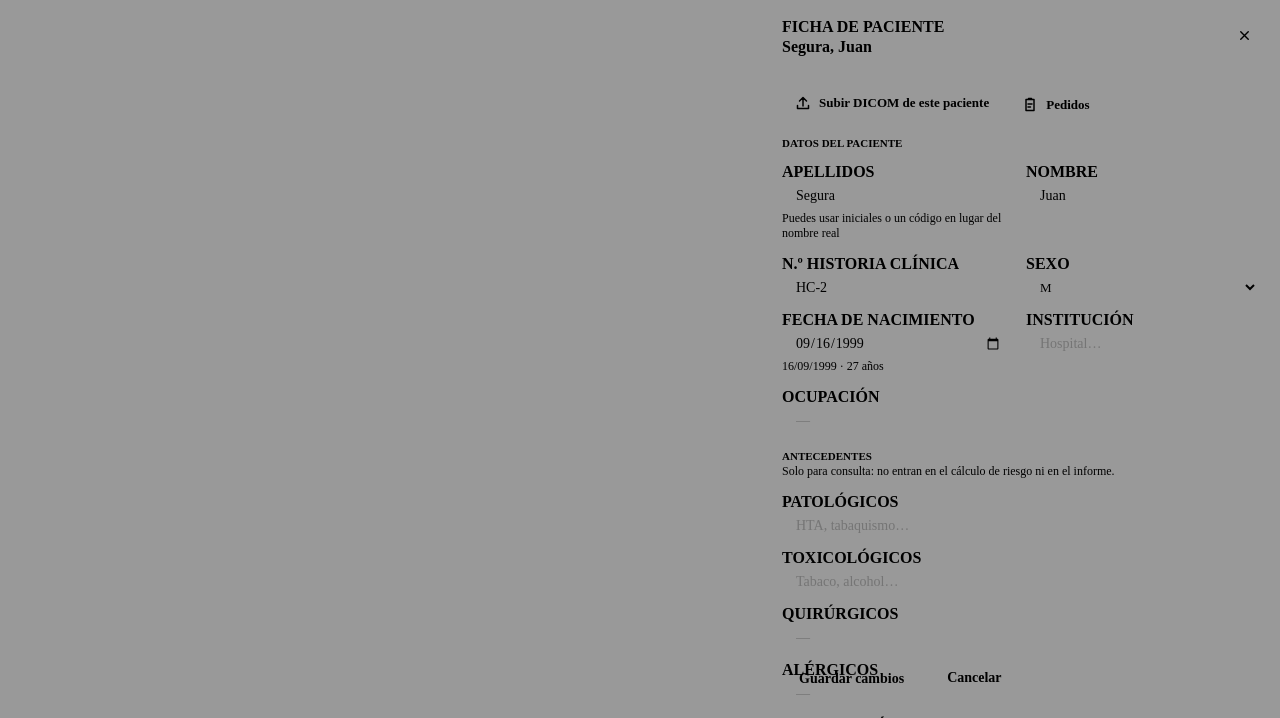
datos del paciente › «Guardar cambios» dice por qué está apagado (F2-31)
This screenshot has width=1280, height=718.
Clear the field labelled "Apellidos" at (898,196), box 794,187 -> 1002,205
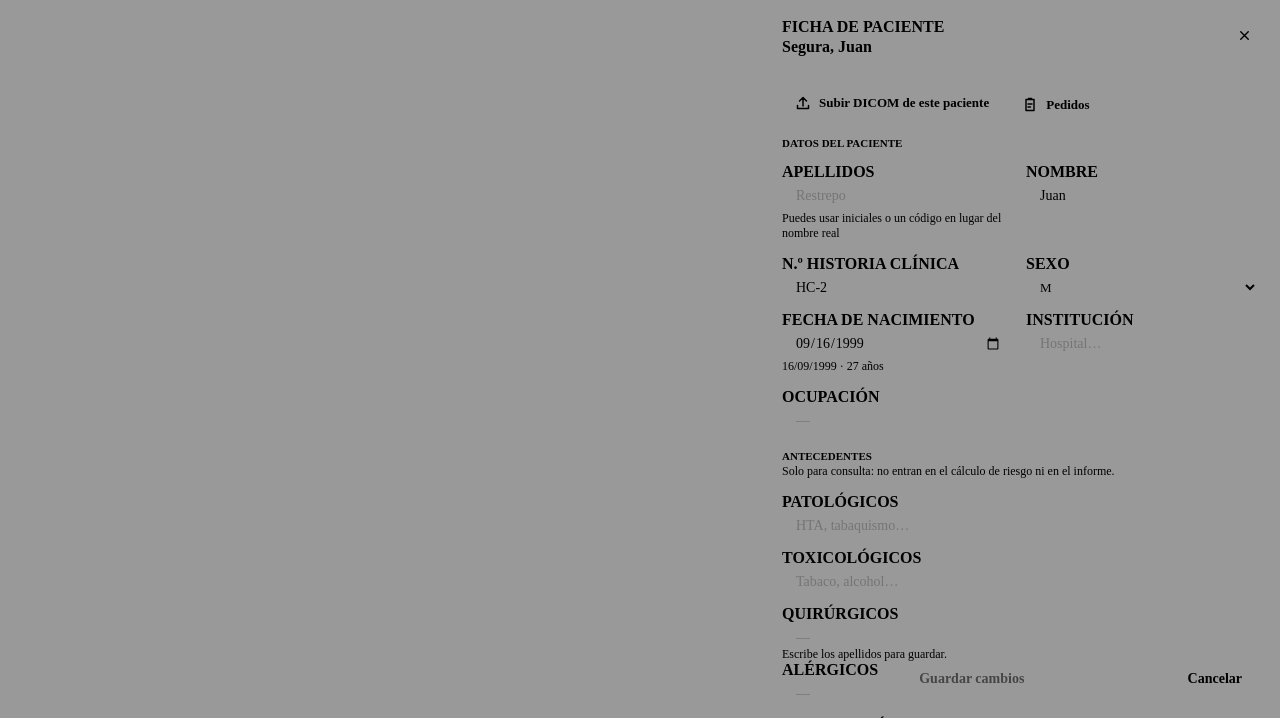
Result: the button "Guardar cambios" is disabled at 782,670 -> 1162,688
Result: the text "Escribe los apellidos para guardar." is shown at 782,647 -> 947,661
